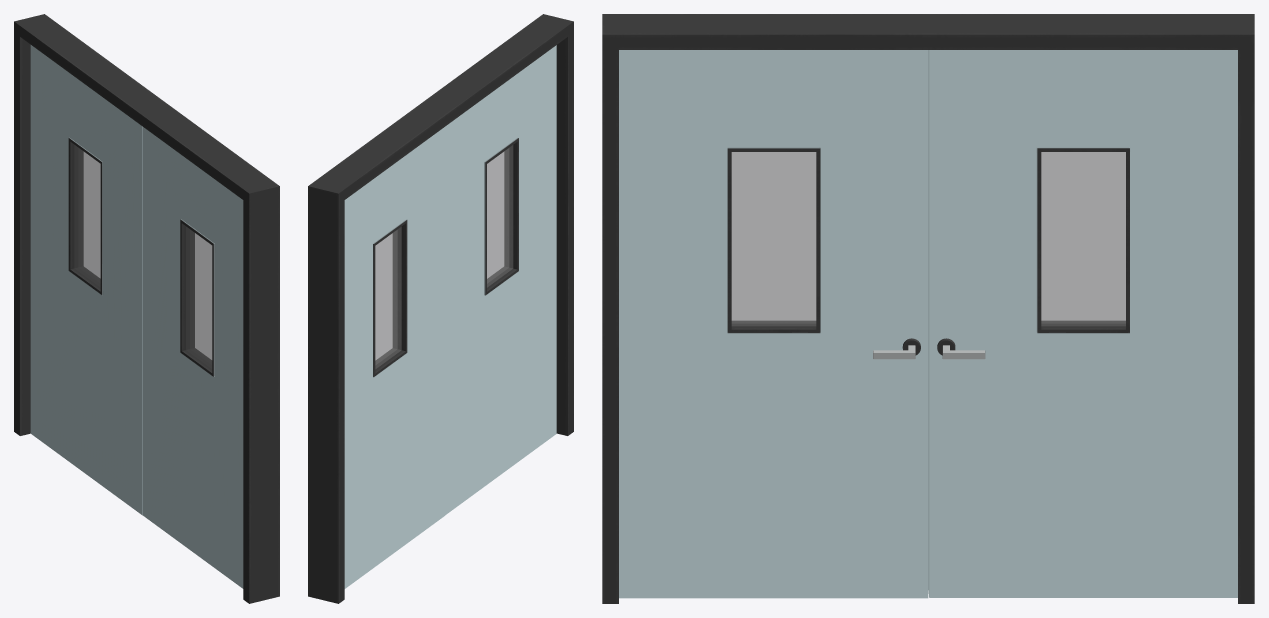
File: DoubleDoor.fbx
The picture shows the model from 3 angles, left to right: view 1: azimuth 30°, elevation 25°; view 2: azimuth 150°, elevation 25°; view 3: azimuth 270°, elevation 25°; orthographic projection. The views are drawn at different scales.
Visible parts, largest first — view 1: DubleDoor; view 2: DubleDoor; view 3: DubleDoor.
Boxes of the visible parts, box(x1,y1,x2,y2) form: DubleDoor: box(14, 14, 279, 603); DubleDoor: box(308, 14, 573, 603); DubleDoor: box(602, 14, 1254, 603).
Bounding box in the file's own units: 20.19 × 215 × 223.
